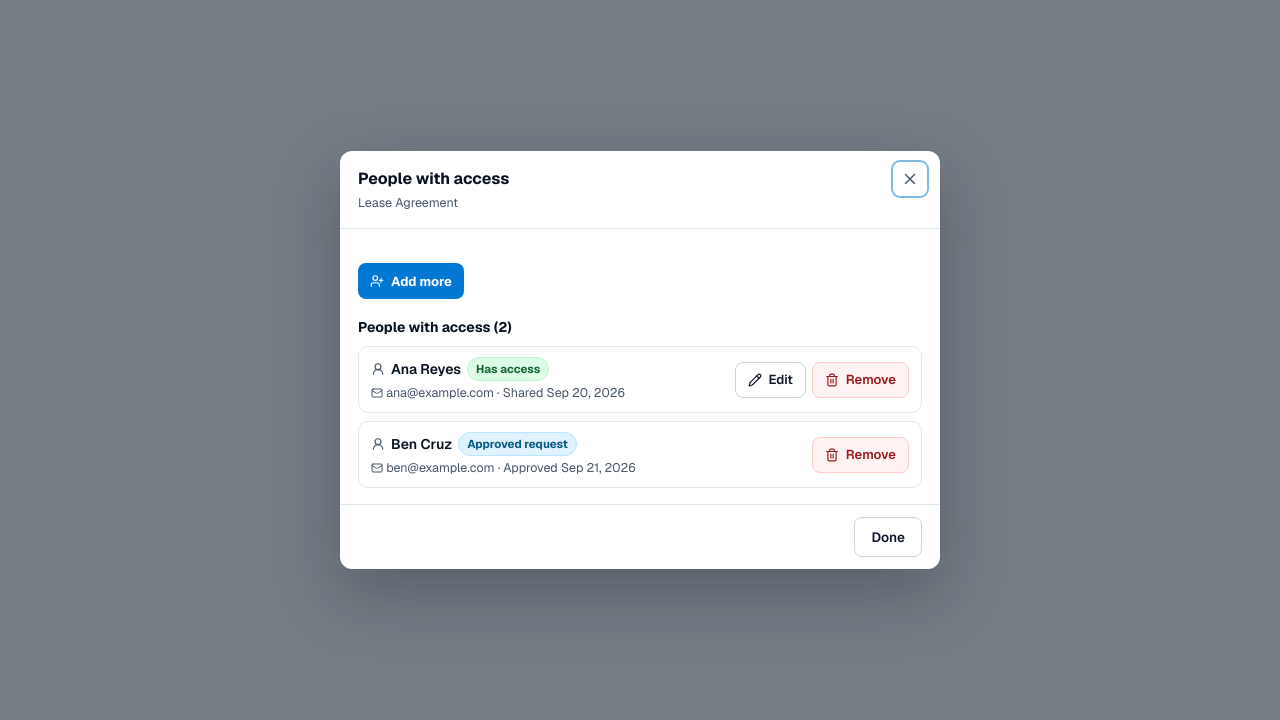
Test: ShareDocumentDialog › lists shares and approved requests; edits a name only
Expected: the number of list items with test id "share-person" is 2, [358,346,922,413]; [358,421,922,488]
Expected: the text "Approved request" is shown, [458,432,577,456]
Click the button with aria-label "Edit Ana Reyes" at x=770, y=380, box [735,362,806,398]
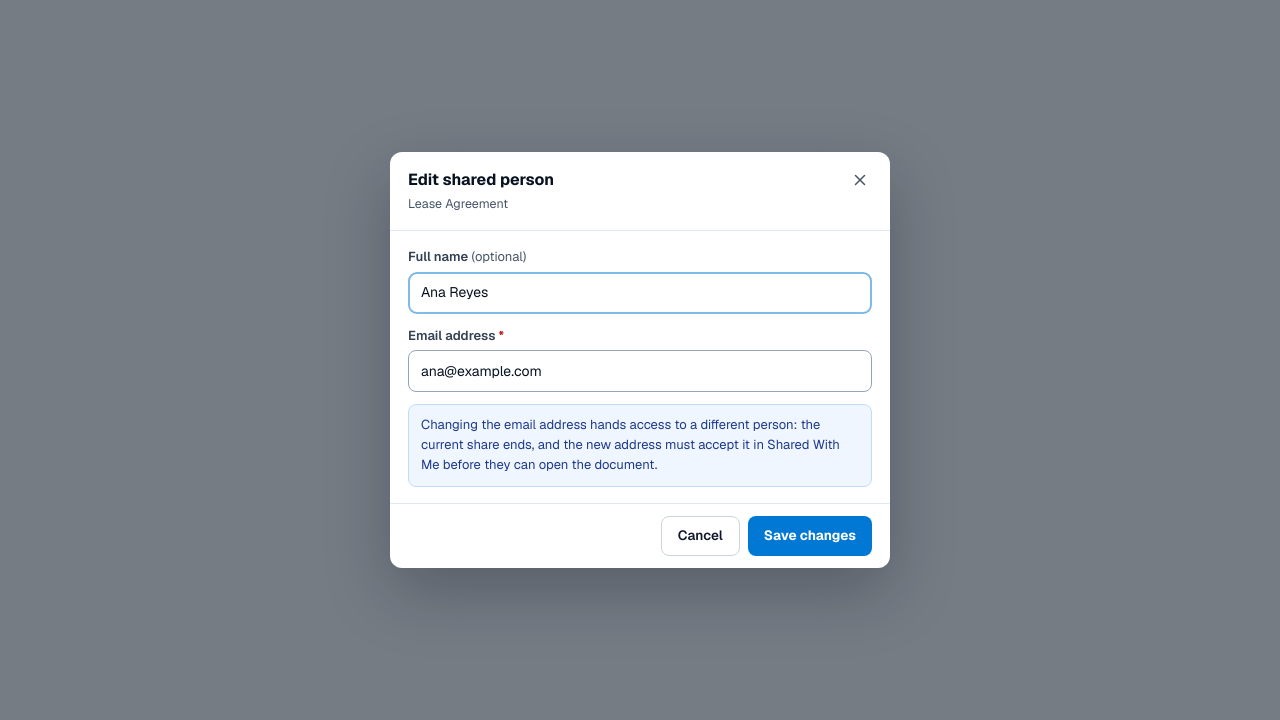
Expected: the text "hands access to a different person" is shown, [421,416,840,474]
Replace the text in the field labelled "Full name (optional)" with "Ana Reyes-Santos" at x=640, y=293, box [408,272,872,314]
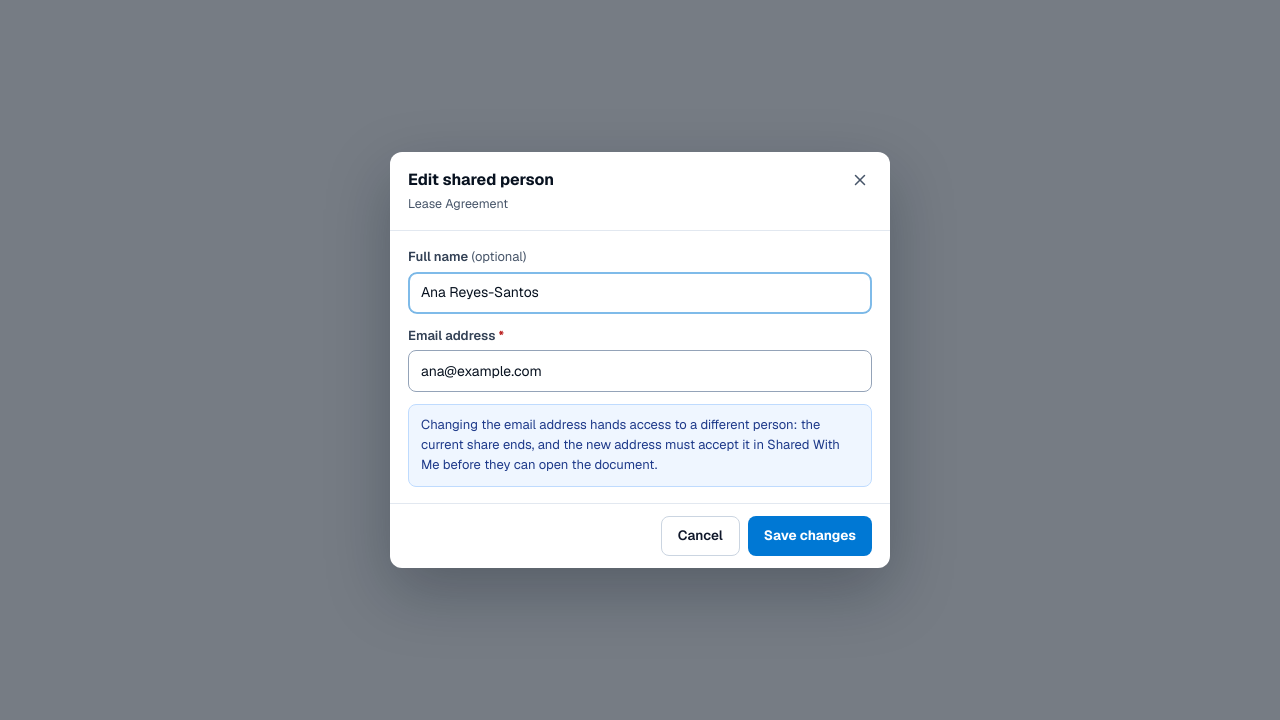
Click the button "Save changes" at x=810, y=536, box [748,516,872,556]
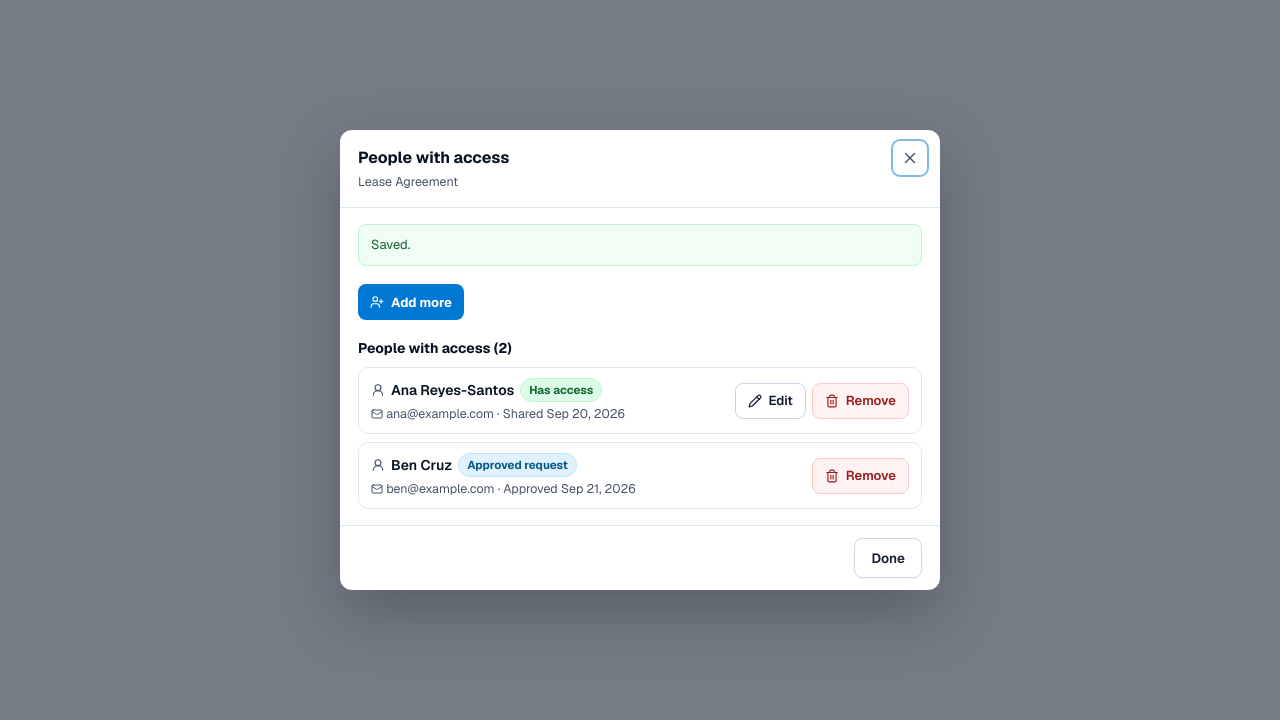
Expected: the text "Ana Reyes-Santos" is shown, [391,380,514,401]
